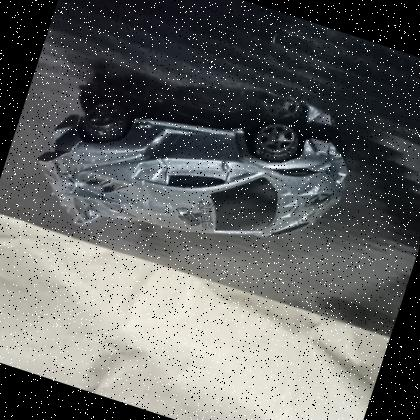Car: (37, 95, 349, 238)
